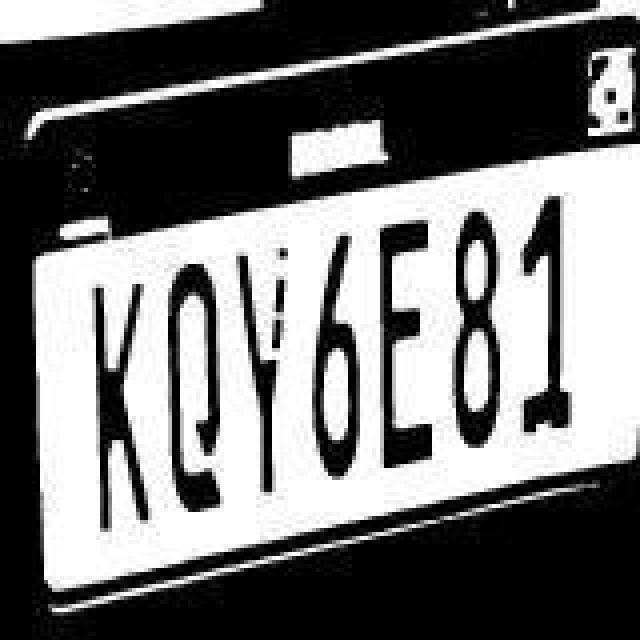1: (516, 194, 588, 446)
6: (308, 226, 364, 494)
8: (446, 198, 522, 458)
E: (374, 216, 450, 480)
K: (82, 276, 158, 540)
Q: (164, 266, 236, 510)
Y: (230, 244, 298, 492)
